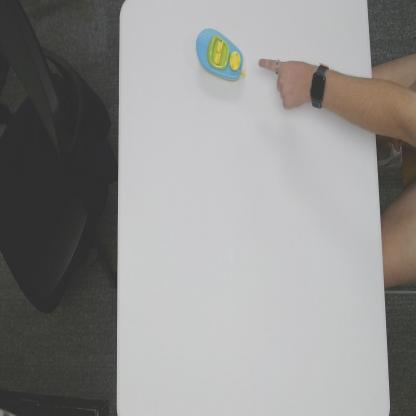Arm: (330, 68, 376, 133)
Boat: (196, 27, 247, 84)
Hand: (258, 55, 308, 111)
